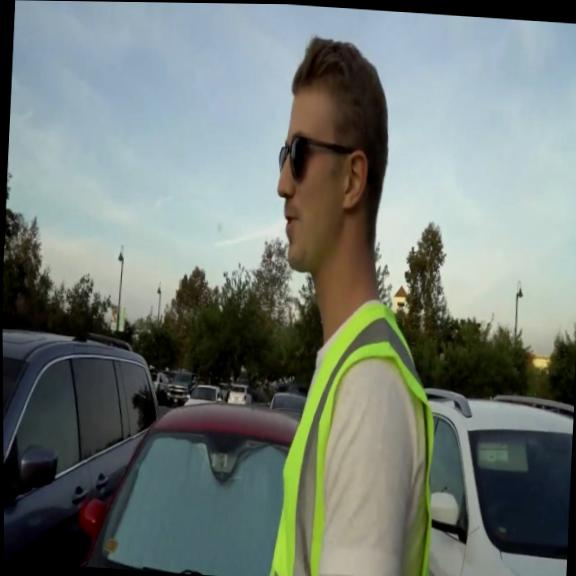safety_vest: (263, 296, 446, 576)
